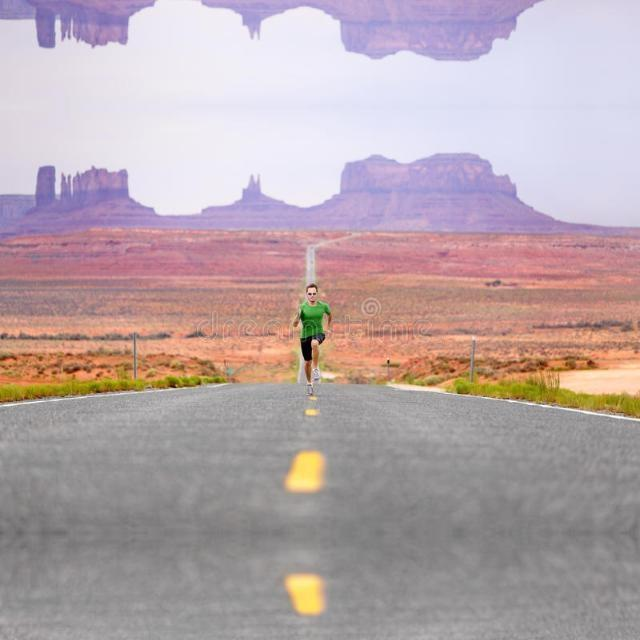person: (288, 277, 336, 398)
